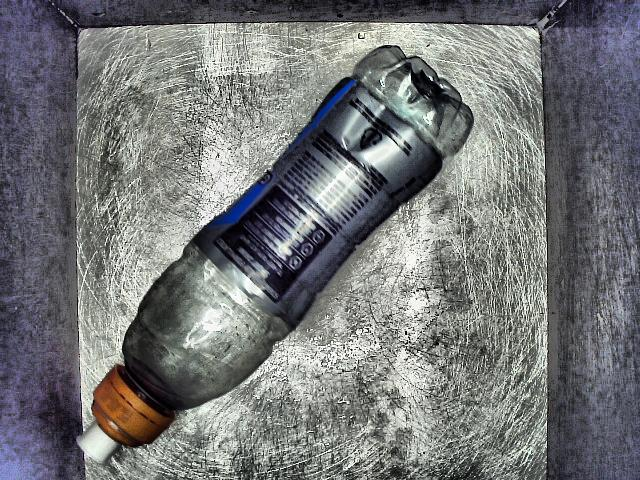Bottles: (66, 42, 502, 480)
